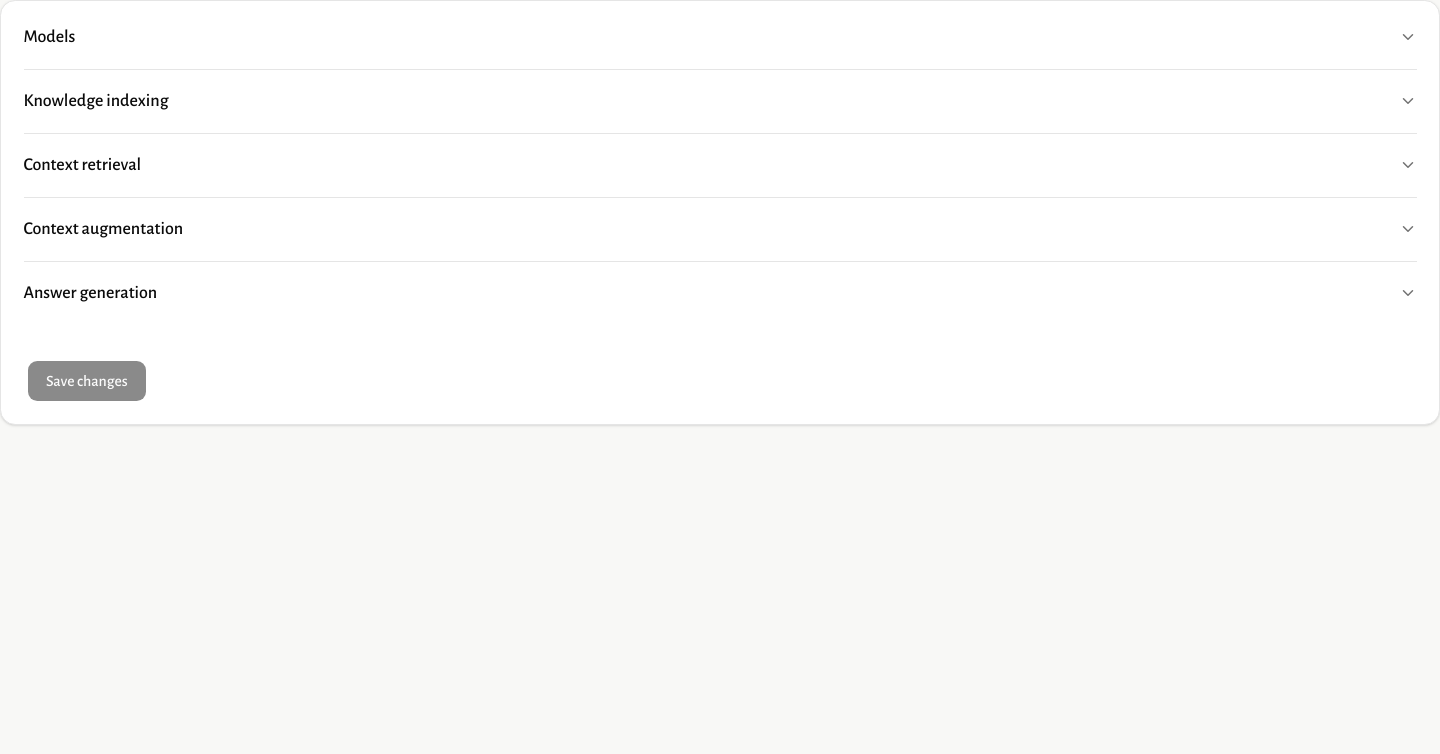
Test case: ProjectDefaultsForm › should show model select when embedding backend is explicitly set in defaults
The image size is (1440, 754).
Click the button "Models".
click(49, 36)  # box [24,6,1416,68]
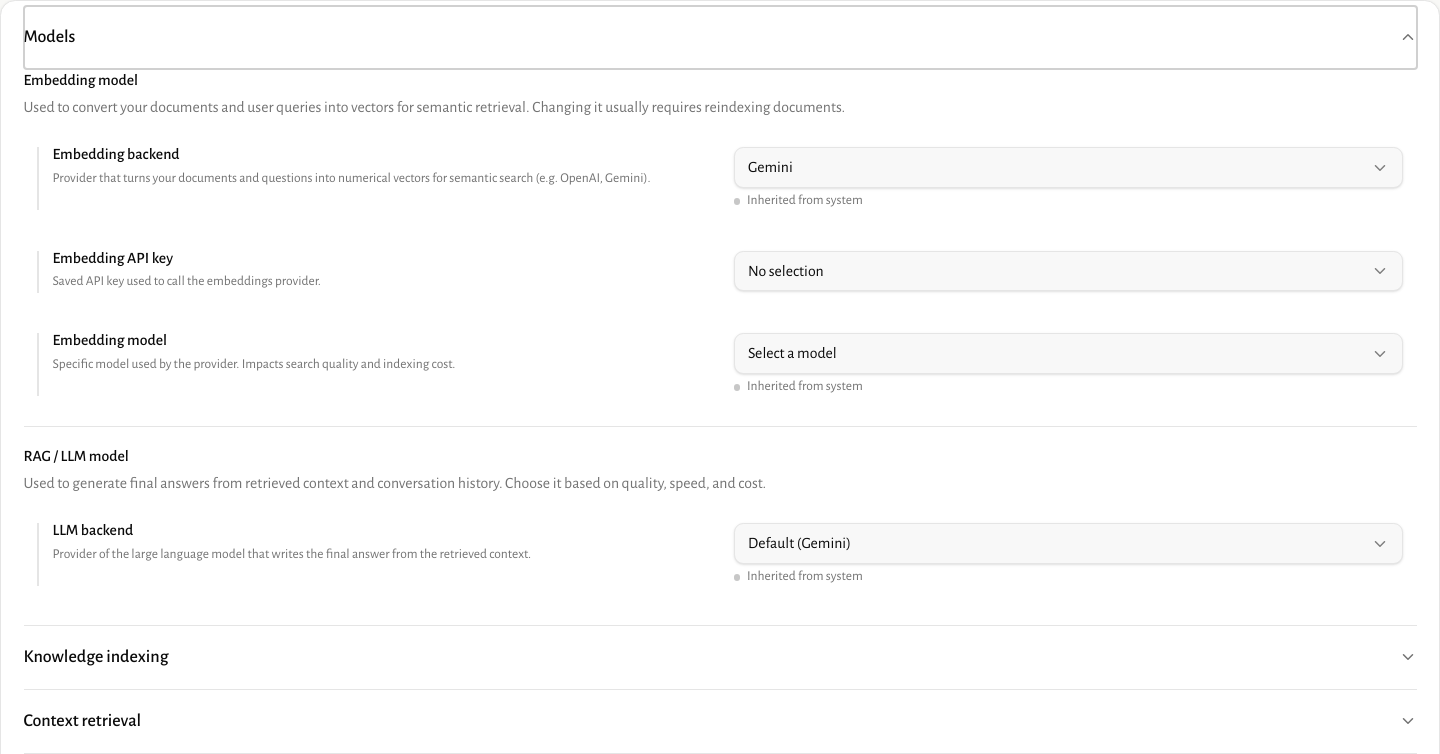
Expected: the dropdown named "embedding model" is shown, [734,333,1403,374]
